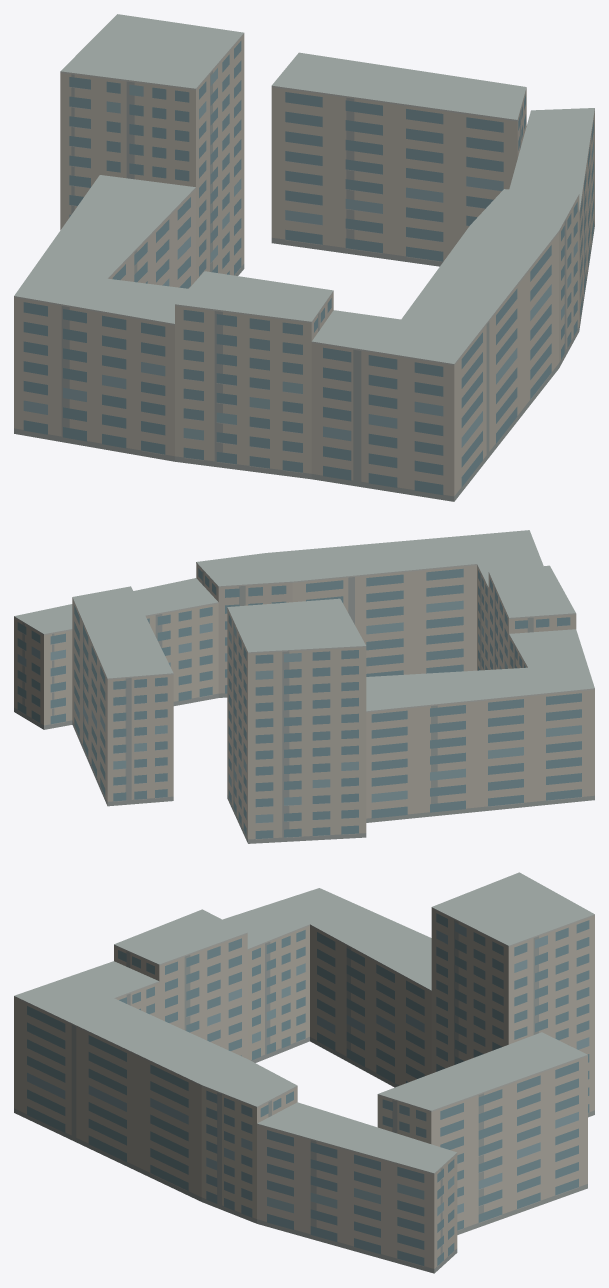
The model's file is residential-35a94490-0ef8-4af1-aa26-bfaeb2de8455.glb.
3 renders of one model, top to bottom at view 1: azimuth 30°, elevation 25°; view 2: azimuth 150°, elevation 25°; view 3: azimuth 270°, elevation 25°, orthographic. The views are drawn at different scales.
Visible parts, largest first — view 1: residential-35a94490-0ef8-4af1-aa26-bfaeb2de8455.tmp; view 2: residential-35a94490-0ef8-4af1-aa26-bfaeb2de8455.tmp; view 3: residential-35a94490-0ef8-4af1-aa26-bfaeb2de8455.tmp.
Boxes of the visible parts, x1,y1,x2,y2 form: residential-35a94490-0ef8-4af1-aa26-bfaeb2de8455.tmp: (14, 14, 594, 501); residential-35a94490-0ef8-4af1-aa26-bfaeb2de8455.tmp: (14, 530, 594, 843); residential-35a94490-0ef8-4af1-aa26-bfaeb2de8455.tmp: (14, 872, 594, 1273).
Bounding box in the file's own units: 105 × 36.6 × 96.07.
